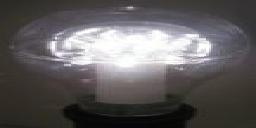LED: (11, 9, 253, 128)
